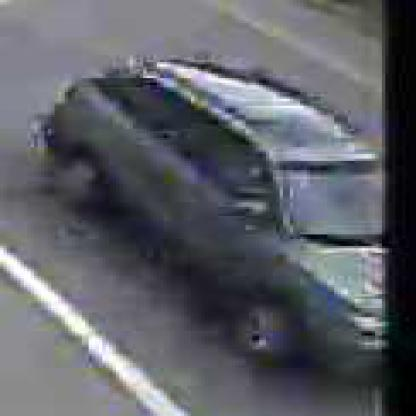car: (35, 63, 386, 383)
